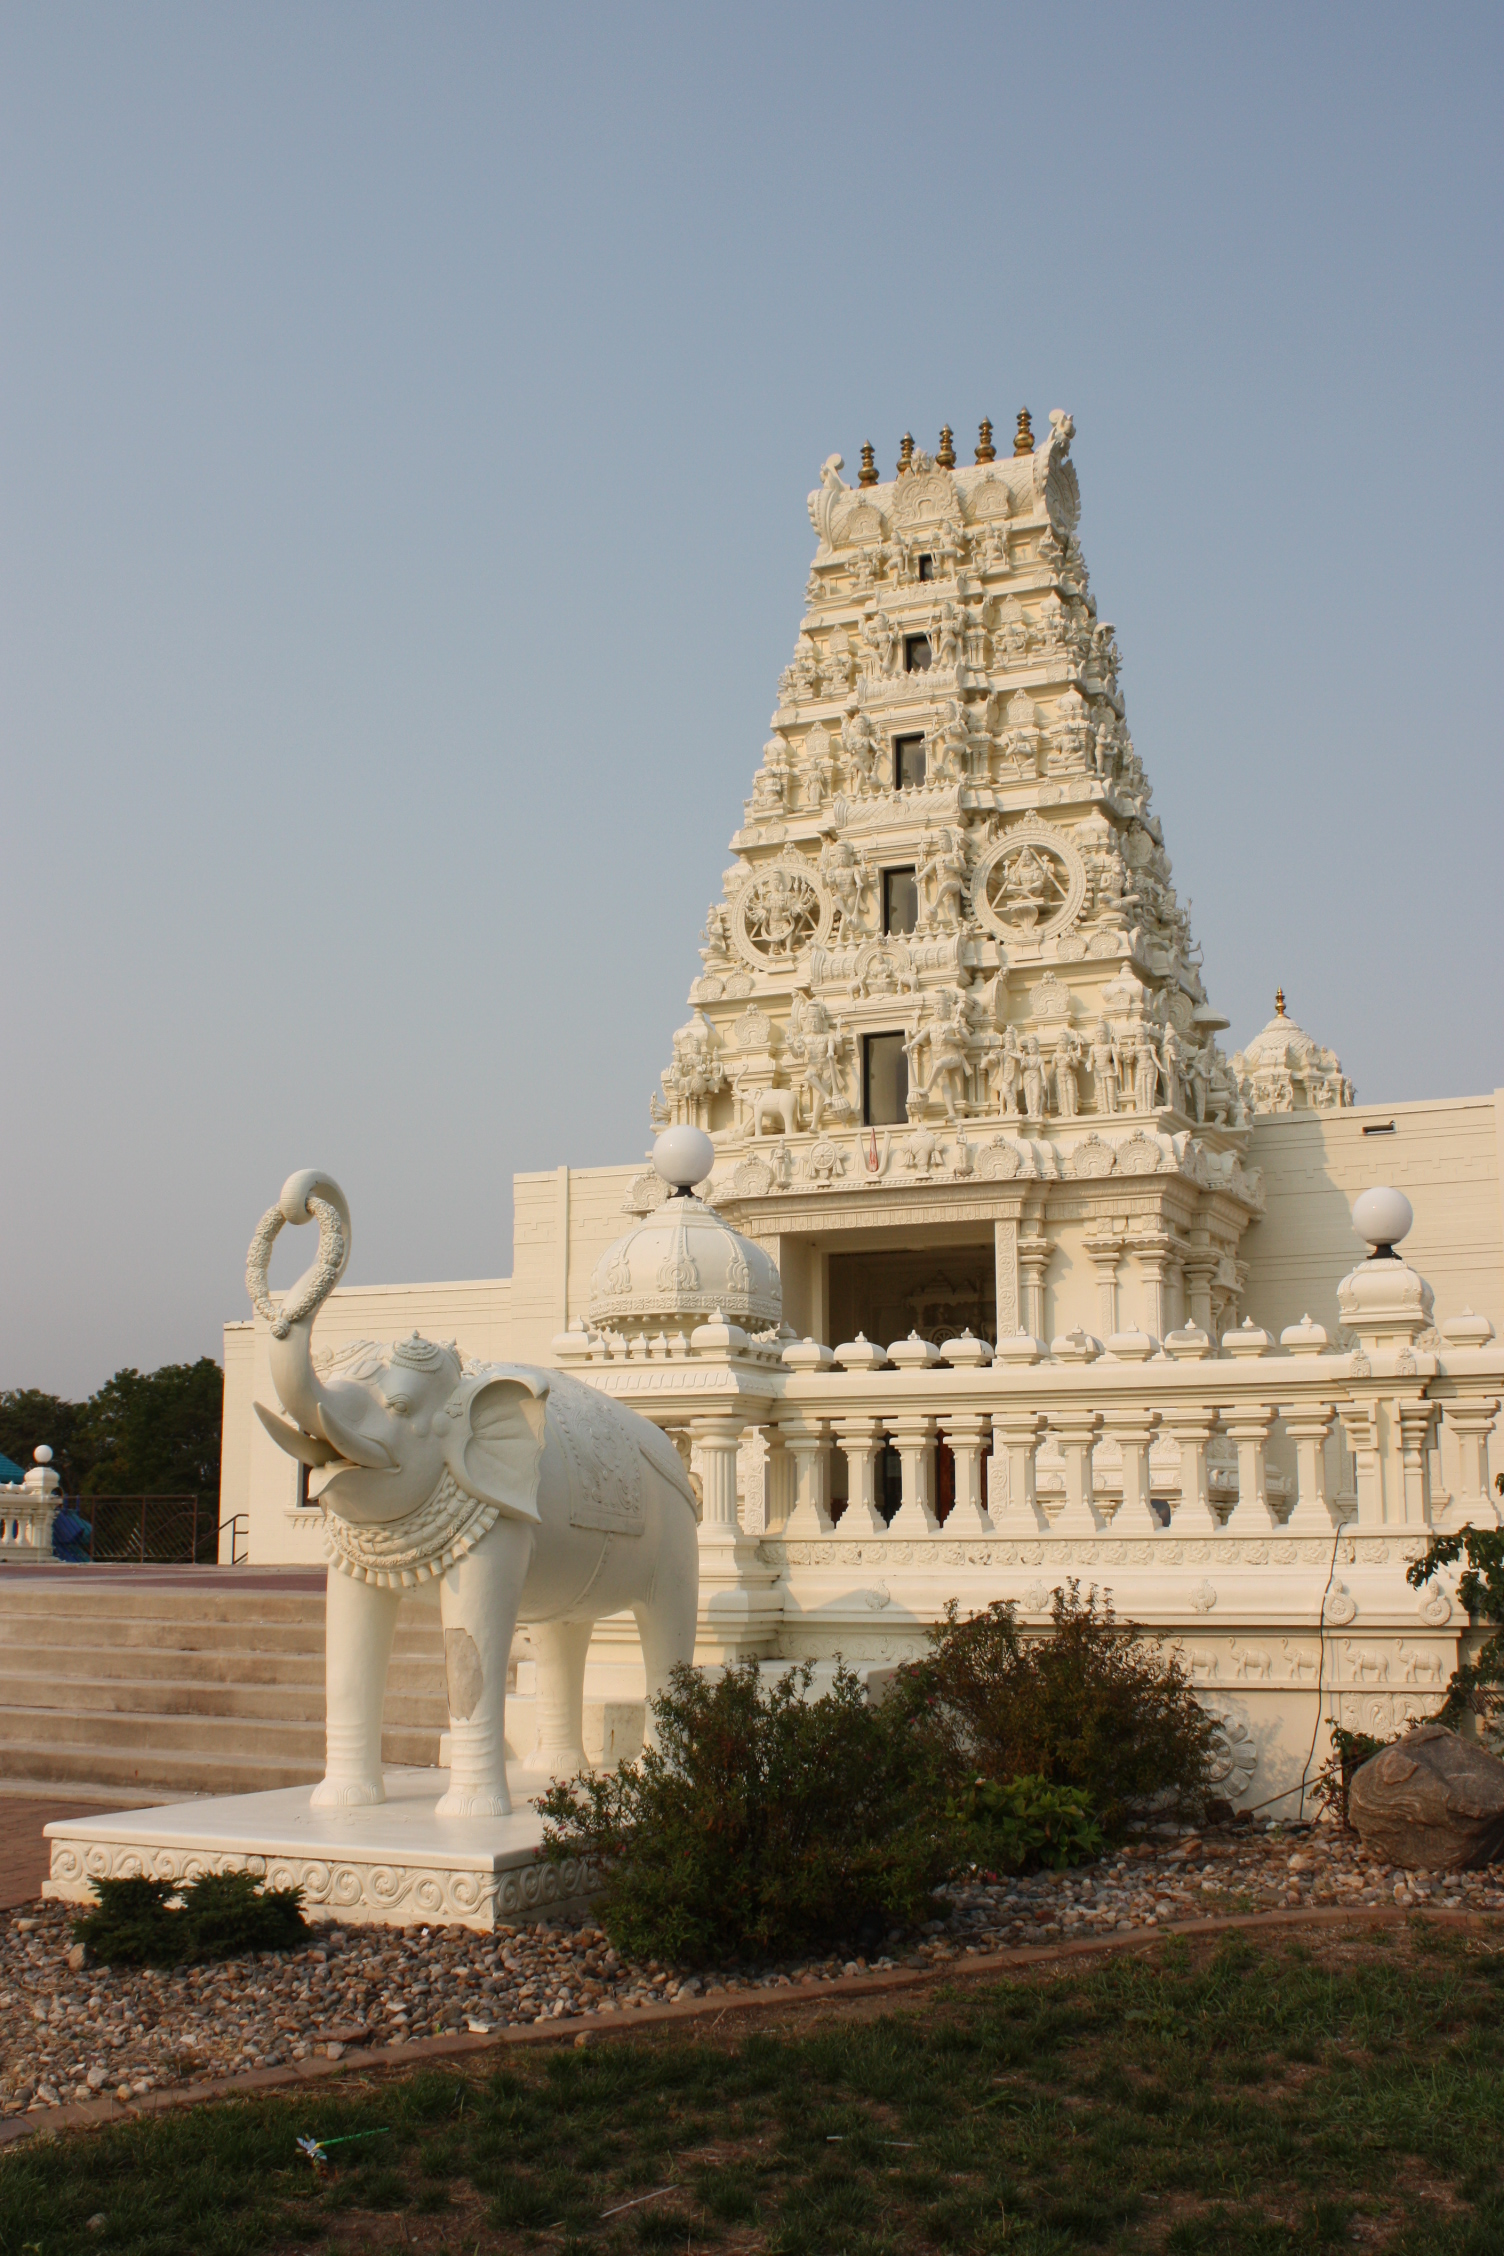Temple: (645, 393, 1252, 1318)
